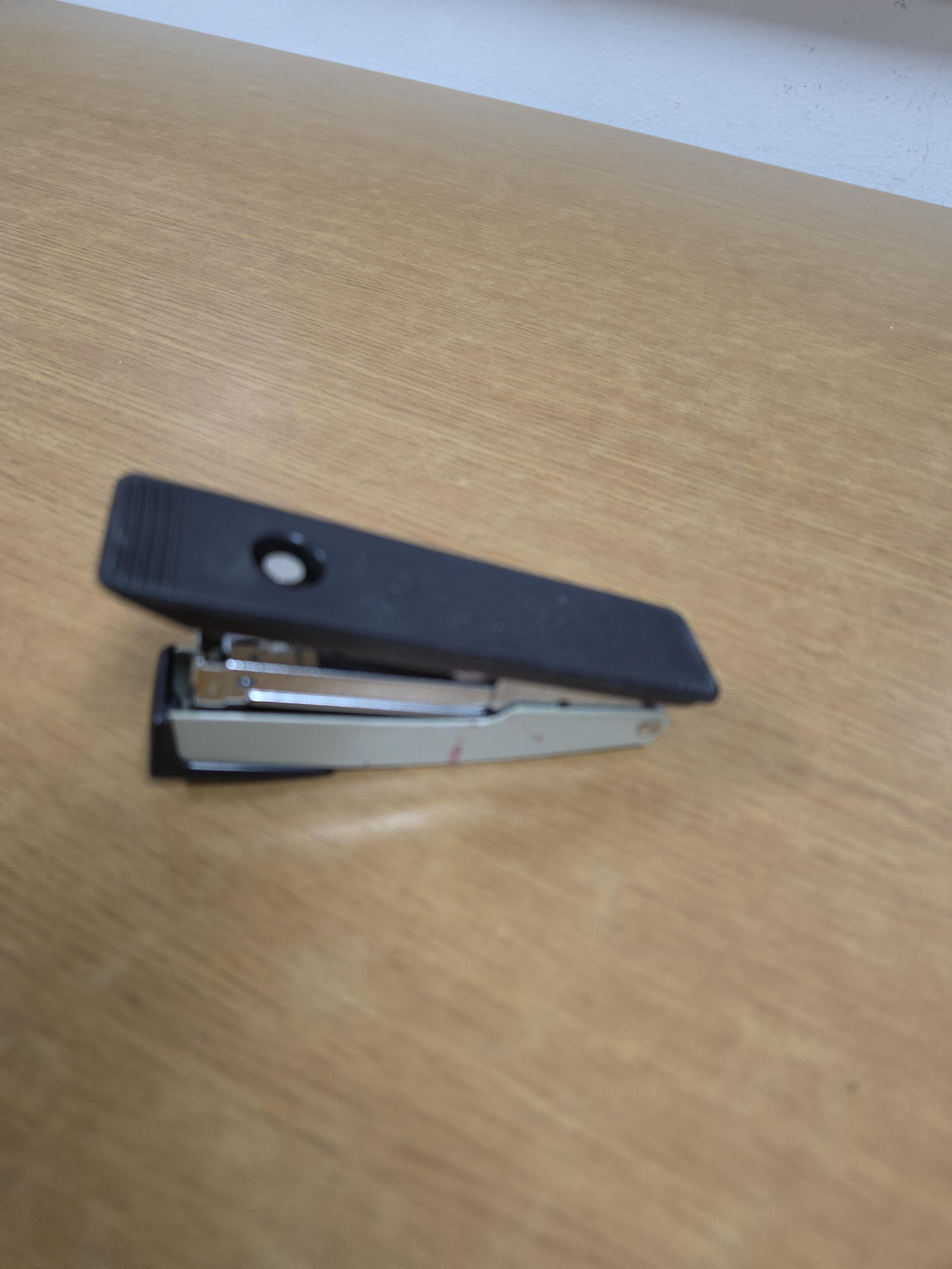stapler: (97, 475, 721, 781)
